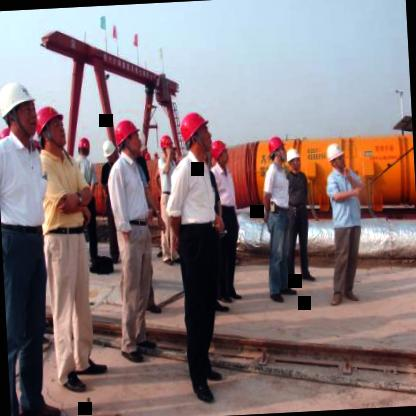helmet: (0, 75, 37, 142), (177, 108, 211, 160), (37, 105, 67, 153), (112, 117, 141, 160), (322, 139, 352, 173), (208, 134, 234, 169), (264, 133, 288, 163), (102, 138, 120, 169), (286, 145, 302, 173), (158, 131, 173, 159), (74, 134, 92, 156)
